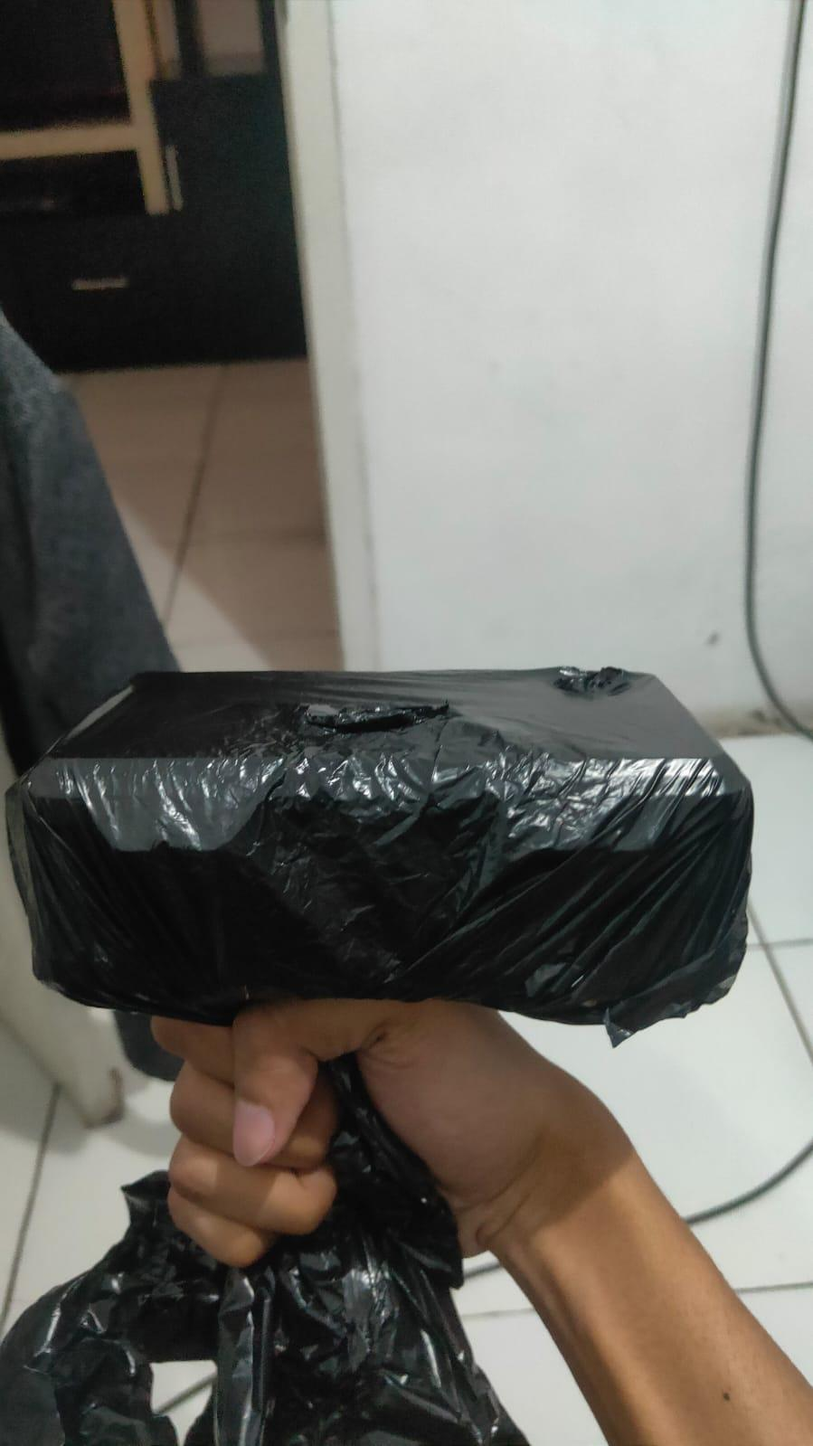damaged package: (302, 702, 446, 746), (552, 665, 633, 699)
undamaged: (0, 653, 769, 1046)
